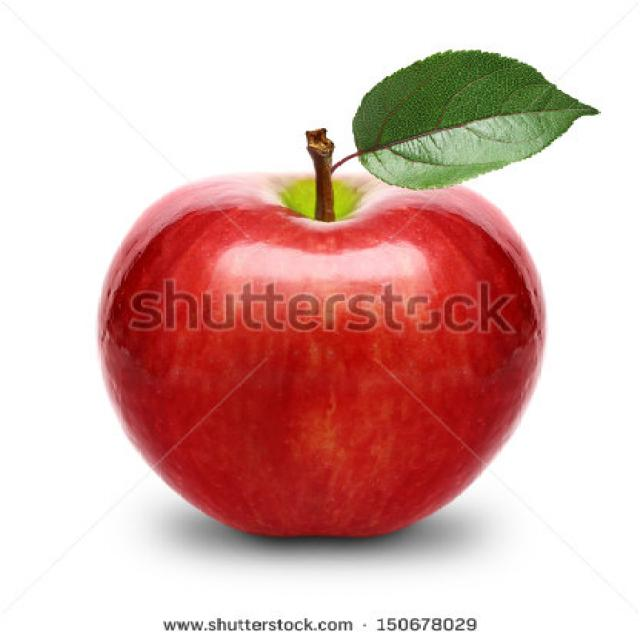apple: (88, 46, 605, 548)
